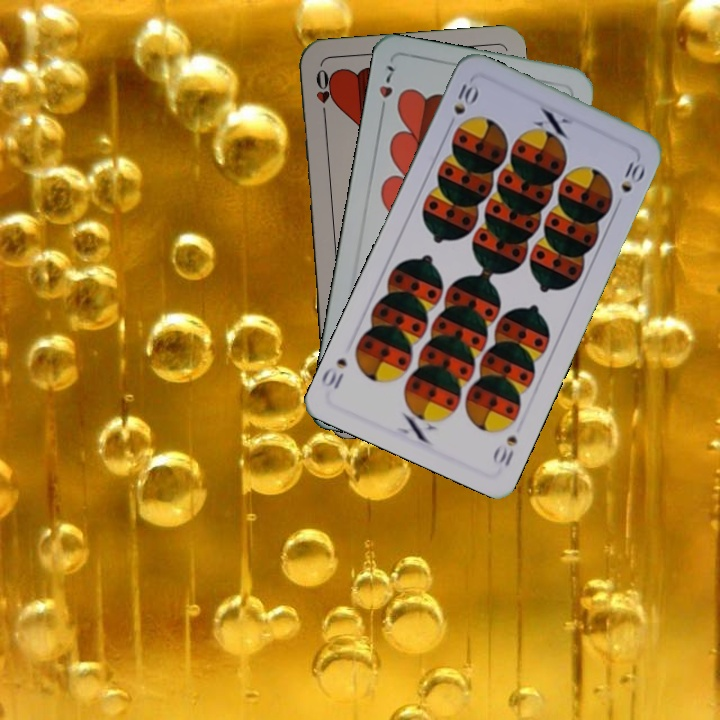H7: (375, 61, 397, 117)
HO: (311, 65, 335, 123)
S10: (443, 79, 482, 132), (488, 431, 520, 469)
